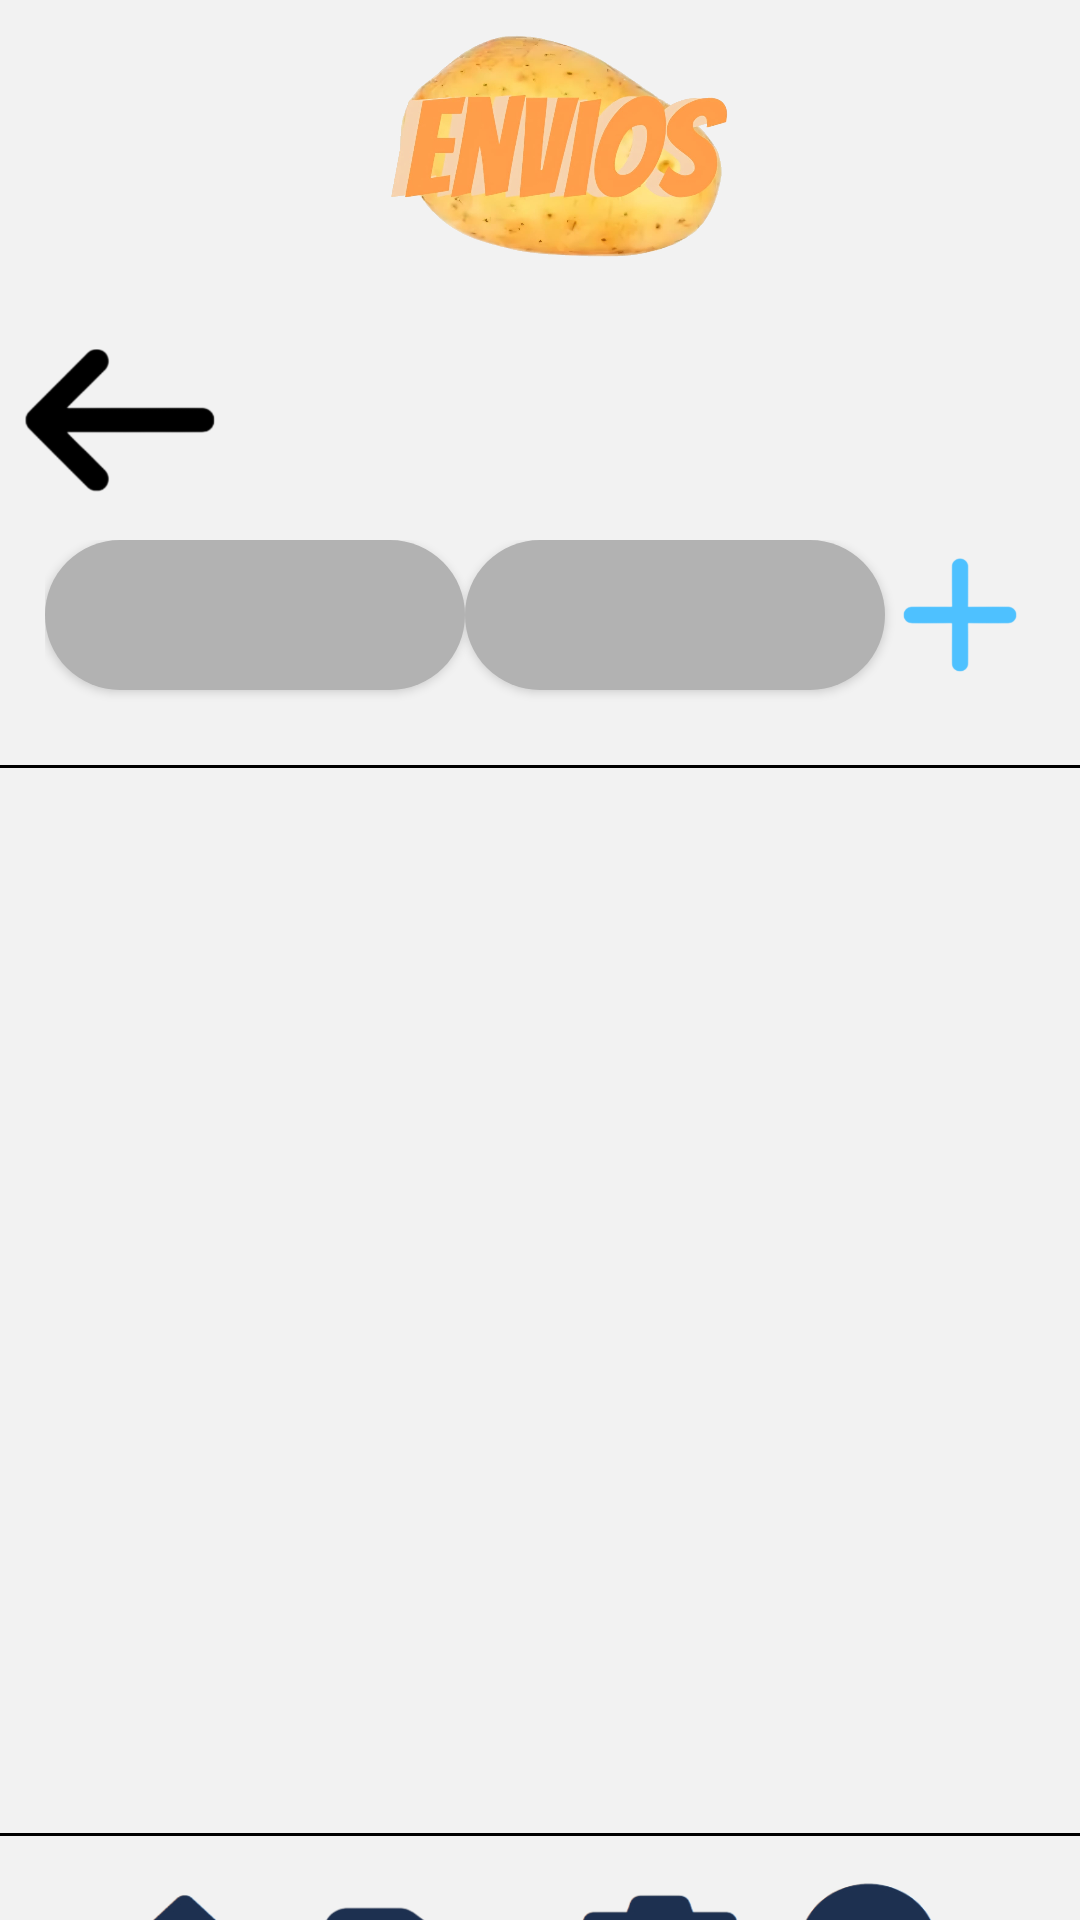

Point at icon controls on the screen. Image size 1080×1920, points as (x,y).
flecha: (120,420)
mas: (960,615)
